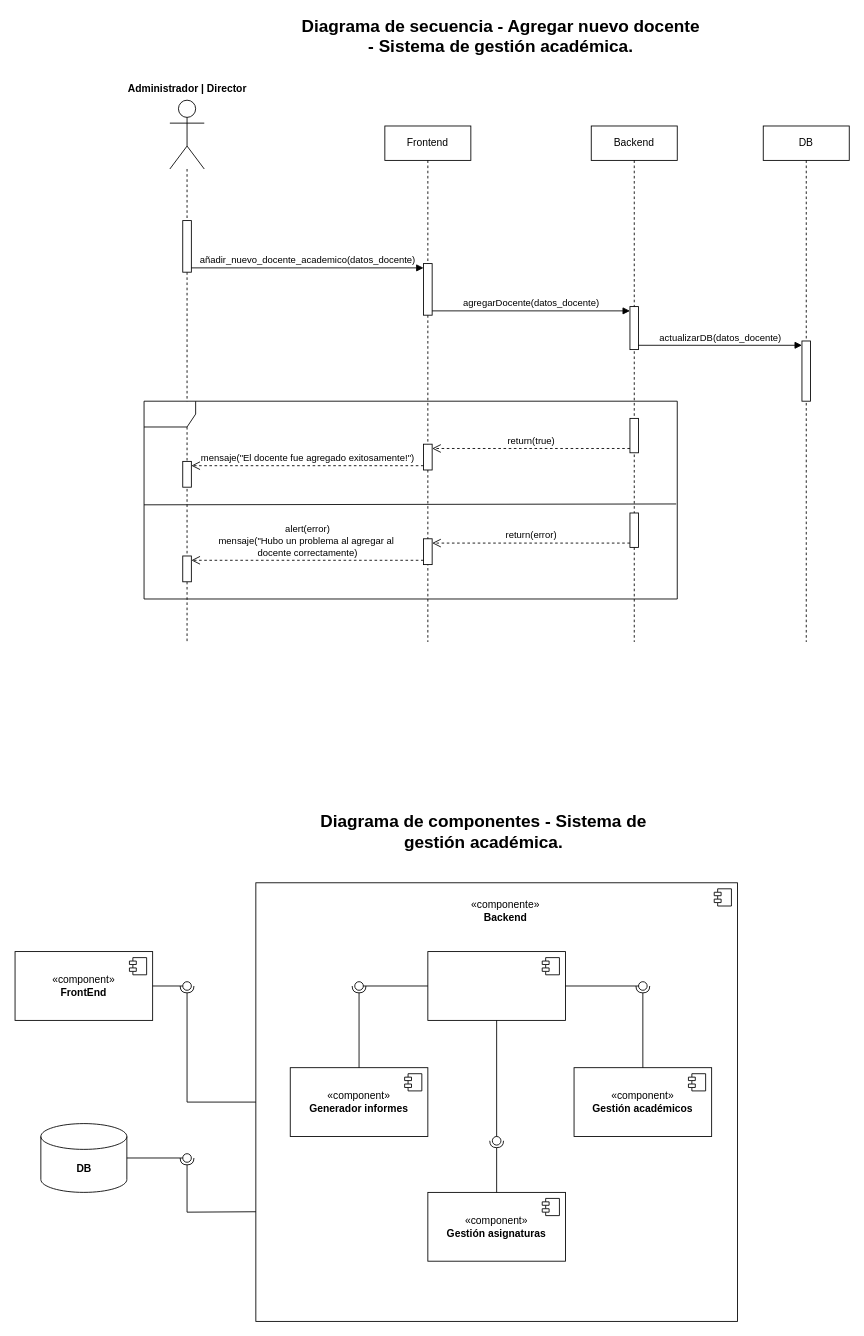
Some shapes in this 864 by 1336 pixel diagram are drawn without their labels. Here are the shapes that lost their labels. From the top down, the centre of each, then its label:
[410,499]: alt
[496,985]: «component» Autenticacion
